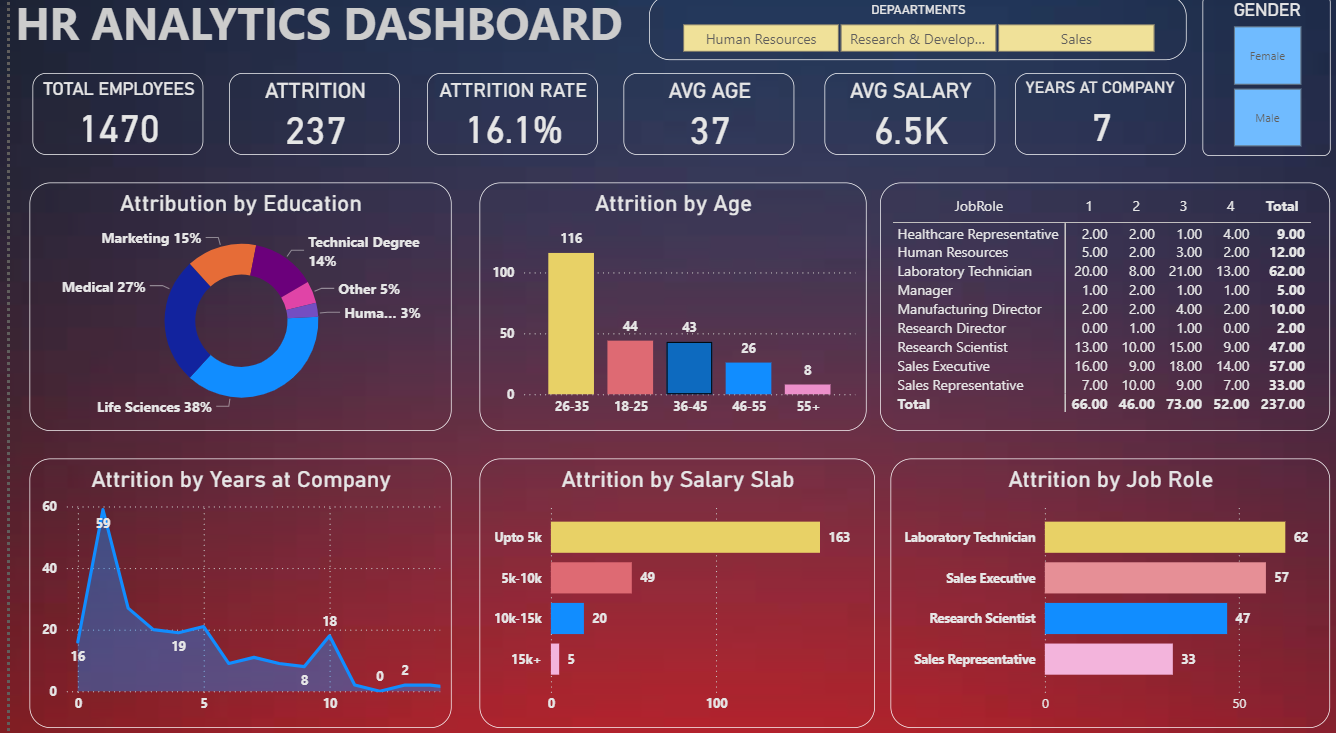

The page's visual inventory and layout, read from the dashboard file:
{"tool":"powerbi","page":{"name":"Page 1","canvas":[1280,720],"ordinal":0},"visuals":[{"type":"donutChart","title":"Attribution by Education","fields":{"Category":["p2.EducationField"],"Y":["Sum(p2.Attrition no.)"]},"box":[18.3,186.7,401.7,236.7],"z":0},{"type":"textbox","box":[0,0,600,78.3],"z":1000},{"type":"columnChart","title":"Attrition by Age","fields":{"Y":["Sum(p2.Attrition no.)"],"Category":["p2.AgeGroup"]},"box":[446.7,186.7,368.3,236.7],"z":2000},{"type":"areaChart","title":"Attrition by Years at Company","fields":{"Y":["Sum(p2.Attrition no.)"],"Category":["p2.YearsAtCompany"]},"box":[18.3,450,401.7,256.7],"z":3000},{"type":"barChart","title":"Attrition by Salary Slab","fields":{"Y":["Sum(p2.Attrition no.)"],"Category":["p2.SalarySlab"]},"box":[446.7,450,376.7,256.7],"z":4000},{"type":"barChart","title":"Attrition by Job Role","fields":{"Y":["Sum(p2.Attrition no.)"],"Category":["p2.JobRole"]},"box":[838.3,450,418.3,256.7],"z":5000},{"type":"pivotTable","fields":{"Rows":["p2.JobRole"],"Columns":["p2.JobSatisfaction"],"Values":["Sum(p2.Attrition no.)"]},"box":[828.3,186.7,428.3,236.7],"z":6000},{"type":"card","title":"TOTAL EMPLOYEES","fields":{"Values":["CountNonNull(p2.EmpID)"]},"box":[21.5,82.9,162.9,77.8],"z":7000},{"type":"card","title":"ATTRITION","fields":{"Values":["Sum(p2.Attrition no.)"]},"box":[208.5,82.9,162.9,77.8],"z":8000},{"type":"card","title":"AVG AGE","fields":{"Values":["Avg(p2.Age)"]},"box":[584.3,82.9,162.9,77.8],"z":9000},{"type":"card","title":"AVG SALARY","fields":{"Values":["Avg(p2.MonthlyIncome)"]},"box":[775,82.9,162.9,77.8],"z":10000},{"type":"card","title":"ATTRITION RATE","fields":{"Values":["p2.Attrition Rate"]},"box":[397.3,82.9,162.9,77.8],"z":11000},{"type":"card","title":"YEARS AT COMPANY","fields":{"Values":["Avg(p2.YearsAtCompany)"]},"box":[956.5,82.9,162.9,77.8],"z":12000},{"type":"slicer","title":"GENDER","fields":{"Values":["p2.Gender"]},"box":[1135,8.3,121.7,153.3],"z":13000},{"type":"slicer","title":"DEPAARTMENTS","fields":{"Values":["p2.Department"]},"box":[608.3,8.3,511.7,61.7],"z":14000}]}

Visuals, with their boxes in screenshot pixels (x1, y1, x2, y2), scaled from the page's 1280x720 canvas onto the 1336x733 screenshot:
"Attribution by Education" donutChart: 19,190,438,431
textbox: 0,0,626,80
"Attrition by Age" columnChart: 466,190,851,431
"Attrition by Years at Company" areaChart: 19,458,438,719
"Attrition by Salary Slab" barChart: 466,458,859,719
"Attrition by Job Role" barChart: 875,458,1312,719
pivotTable - p2.JobRole x p2.JobSatisfaction: 865,190,1312,431
"TOTAL EMPLOYEES" card: 22,84,192,164
"ATTRITION" card: 218,84,388,164
"AVG AGE" card: 610,84,780,164
"AVG SALARY" card: 809,84,979,164
"ATTRITION RATE" card: 415,84,585,164
"YEARS AT COMPANY" card: 998,84,1168,164
"GENDER" slicer: 1185,8,1312,165
"DEPAARTMENTS" slicer: 635,8,1169,71
